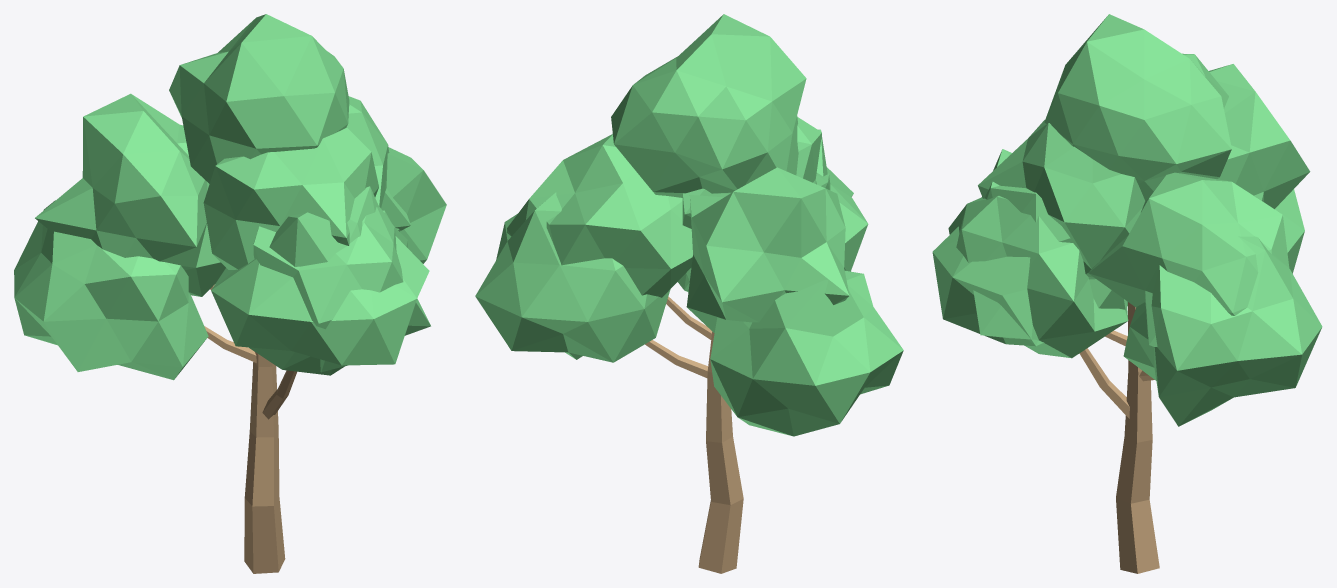
The model's file is Simple_006.fbx.
The picture shows the model from 3 angles, left to right: view 1: azimuth 30°, elevation 25°; view 2: azimuth 150°, elevation 25°; view 3: azimuth 270°, elevation 25°; orthographic projection. The views are drawn at different scales.
Visible parts, largest first — view 1: Simple.006; view 2: Simple.006; view 3: Simple.006.
Boxes of the visible parts, <box> form: Simple.006: <box>14,14,446,573</box>; Simple.006: <box>475,14,903,573</box>; Simple.006: <box>932,14,1322,573</box>.
Size of the model in its own units: 6.64 by 8.57 by 5.59.
